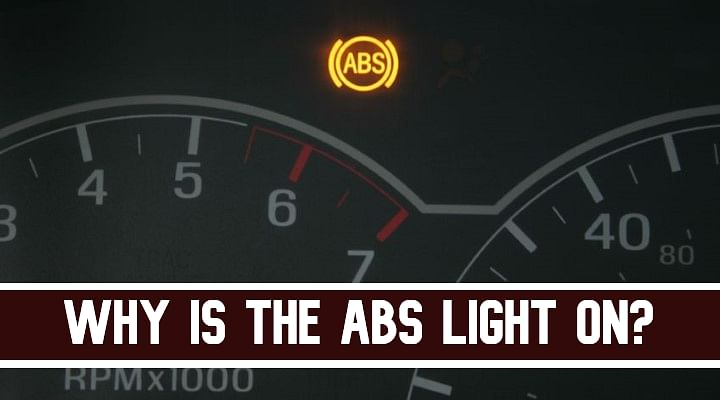ABS: (327, 33, 402, 93)
